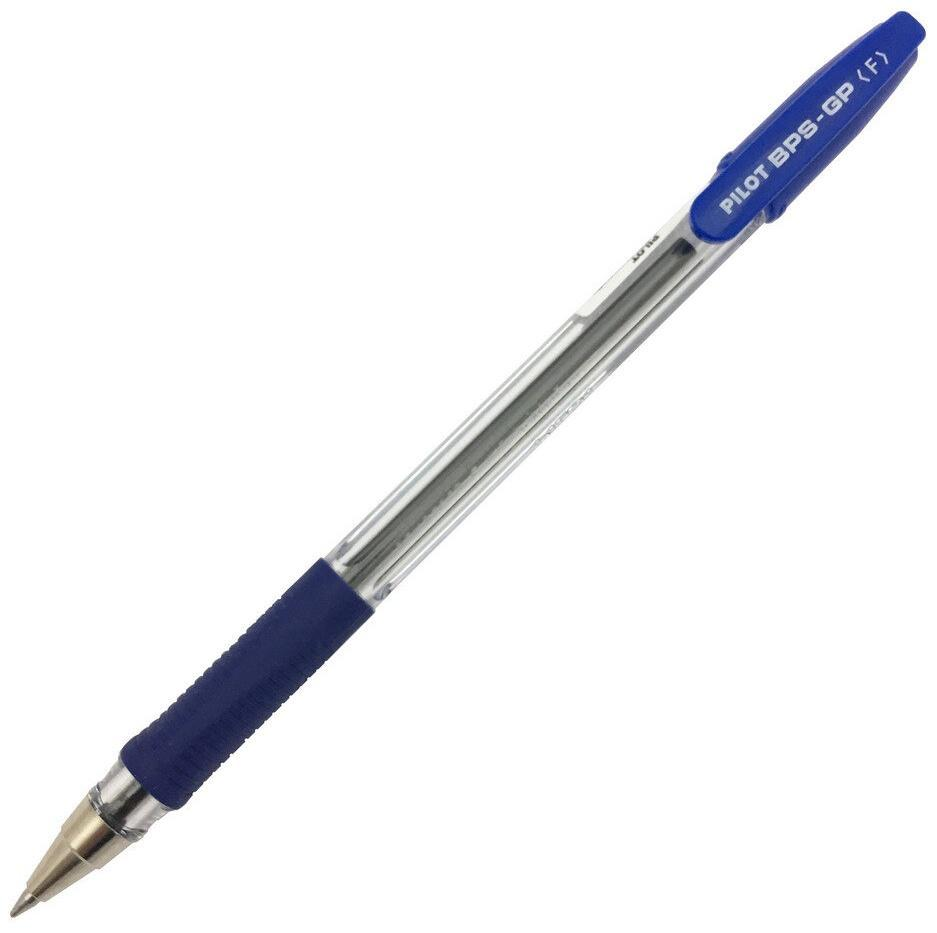pen-pencil: (12, 12, 925, 915)
